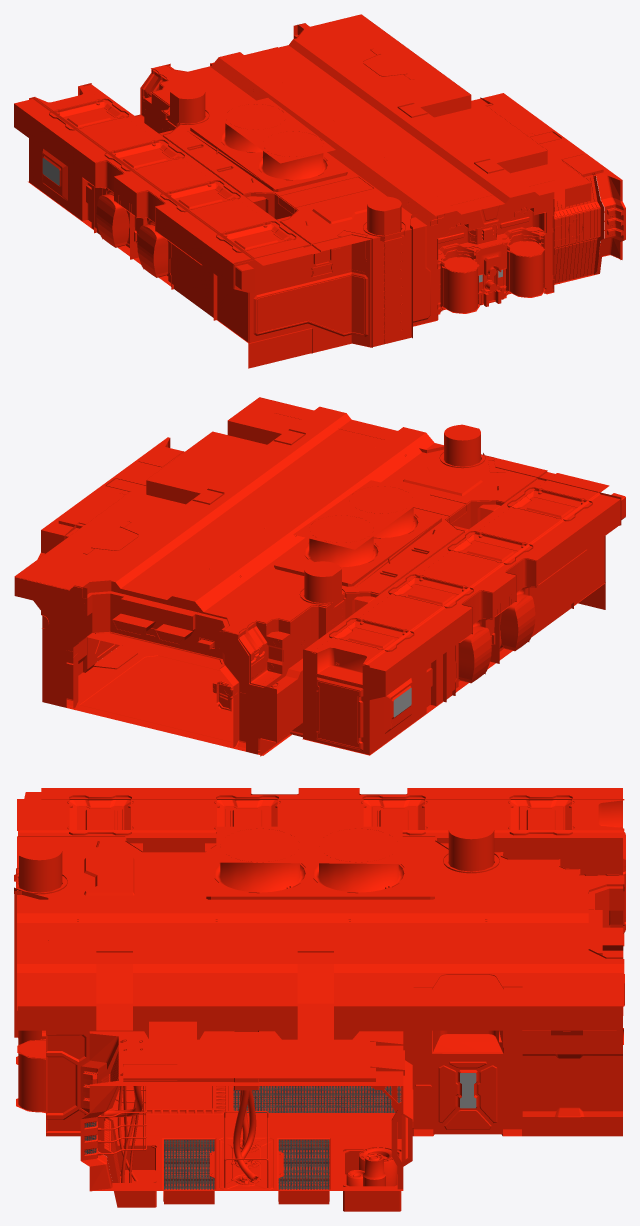
File: Space_Ship_1_Interior_room_v1.FBX
3 renders of one model, top to bottom at view 1: azimuth 30°, elevation 25°; view 2: azimuth 150°, elevation 25°; view 3: azimuth 270°, elevation 25°, orthographic. The views are drawn at different scales.
Parts seen in each view (by area): view 1: Room_ceiling_v1, Room_DMD_v1, Room_DMD_wall_v1, Room_SMD_v1, Room_junction_v1, Room_junction_wall_v1; view 2: Room_ceiling_v1, Room_DMD_v1, Room_DMD_wall_v1, Room_entrance_v1, Room_floor_v1, Room_junction_wall_v1, Room_junction_v1, Room_entrance_console_v1; view 3: Room_ceiling_v1, Room_junction_wall_v1, Room_junction_v1, Room_DMD_v1, Room_floor_v1, Room_DMD_wall_v1, Room_junction_grill_v1, Room_floor_grill_v1, Room_entrance_v1, Room_SMD_v1, Room_junction_tube_v1.
Boxes of the visible parts, x1,y1,x2,y2 form: Room_ceiling_v1: [150, 14, 591, 251]; Room_DMD_v1: [28, 68, 372, 368]; Room_DMD_wall_v1: [14, 97, 254, 342]; Room_SMD_v1: [179, 122, 554, 347]; Room_junction_v1: [471, 93, 625, 284]; Room_junction_wall_v1: [293, 15, 591, 291]; Room_ceiling_v1: [14, 397, 547, 634]; Room_DMD_v1: [238, 457, 625, 756]; Room_DMD_wall_v1: [364, 492, 620, 754]; Room_entrance_v1: [66, 455, 406, 754]; Room_floor_v1: [66, 625, 291, 755]; Room_junction_wall_v1: [14, 397, 305, 707]; Room_junction_v1: [37, 437, 184, 615]; Room_entrance_console_v1: [212, 681, 233, 711]; Room_ceiling_v1: [14, 821, 624, 1006]; Room_junction_wall_v1: [18, 951, 623, 1136]; Room_junction_v1: [80, 1013, 413, 1211]; Room_DMD_v1: [16, 792, 625, 1005]; Room_floor_v1: [109, 1086, 521, 1136]; Room_DMD_wall_v1: [41, 788, 622, 799]; Room_junction_grill_v1: [164, 1139, 329, 1189]; Room_floor_grill_v1: [233, 1086, 401, 1112]; Room_entrance_v1: [77, 884, 623, 1039]; Room_SMD_v1: [14, 876, 48, 1113]; Room_junction_tube_v1: [233, 1090, 258, 1182].
Bounding box in the file's own units: 21.31 × 7.7 × 21.04.
